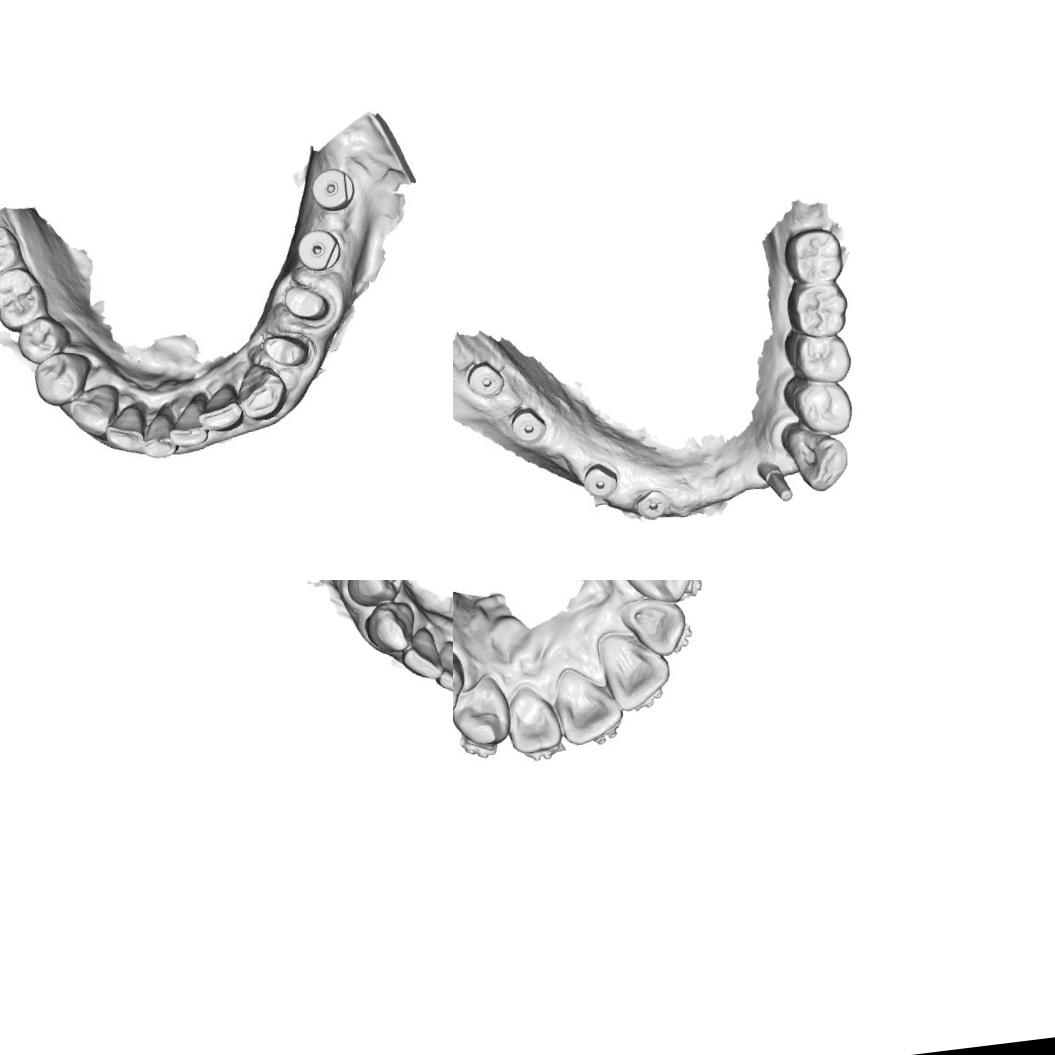abutment: (755, 456, 796, 510)
canine: (781, 419, 855, 496), (453, 675, 514, 750), (233, 360, 290, 427), (360, 597, 420, 657), (64, 384, 122, 442), (618, 580, 693, 607)
crown: (277, 278, 334, 328), (260, 325, 312, 372)
implant: (306, 160, 359, 214), (294, 225, 344, 274), (464, 356, 507, 402), (506, 404, 548, 450), (580, 460, 621, 501)
implant_plus: (630, 486, 672, 522)
incisor: (601, 630, 676, 716), (551, 665, 625, 744), (504, 685, 563, 759), (628, 599, 688, 661), (162, 392, 212, 454), (397, 623, 445, 684), (195, 384, 245, 438), (101, 400, 148, 456), (138, 406, 176, 462), (431, 634, 453, 697)
molar: (780, 224, 846, 288), (784, 281, 852, 342), (0, 263, 46, 334), (0, 219, 22, 281)
premolar: (780, 368, 856, 441), (781, 322, 854, 388), (30, 348, 95, 414), (13, 309, 80, 367), (341, 580, 407, 609), (453, 657, 468, 724)
